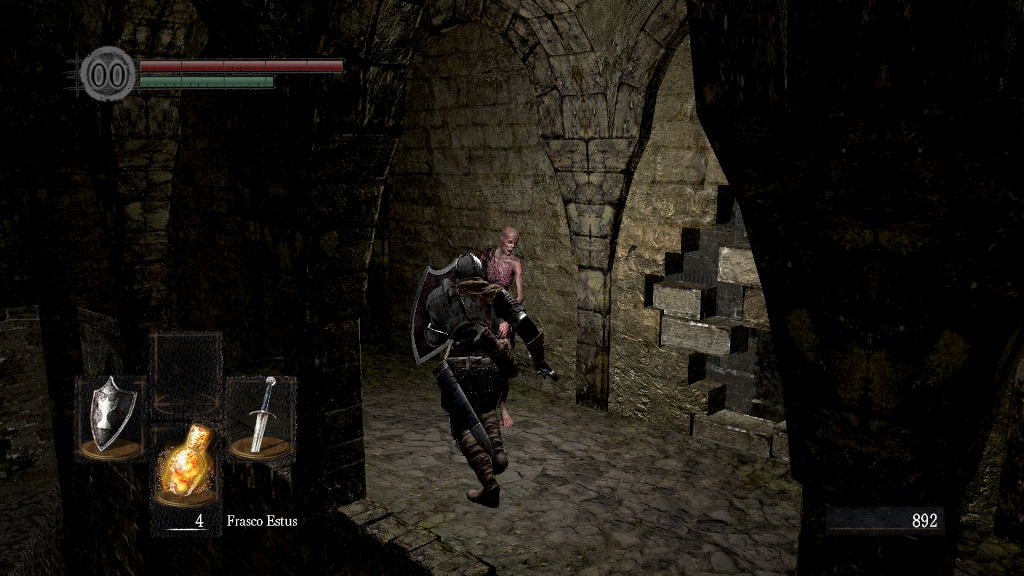health: (138, 58, 343, 71)
hollow: (472, 227, 524, 426)
humanity: (80, 45, 136, 102)
player: (407, 249, 560, 513)
souls: (825, 506, 945, 536)
stamina: (138, 74, 274, 88)
